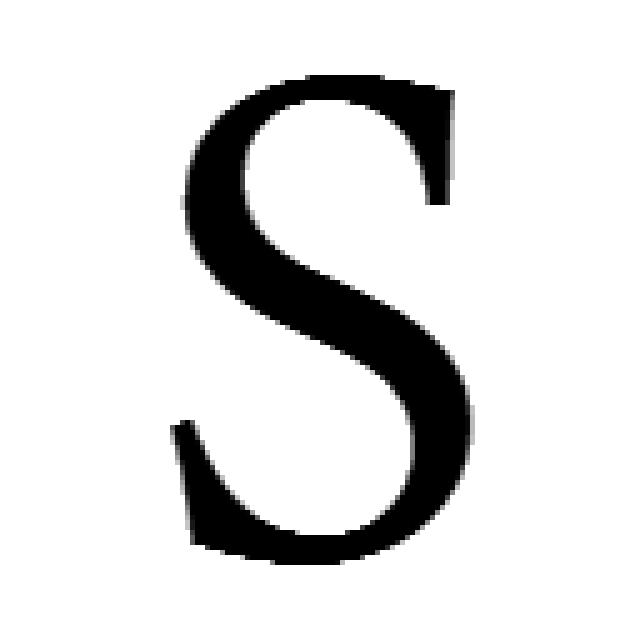S: (166, 86, 485, 556)
